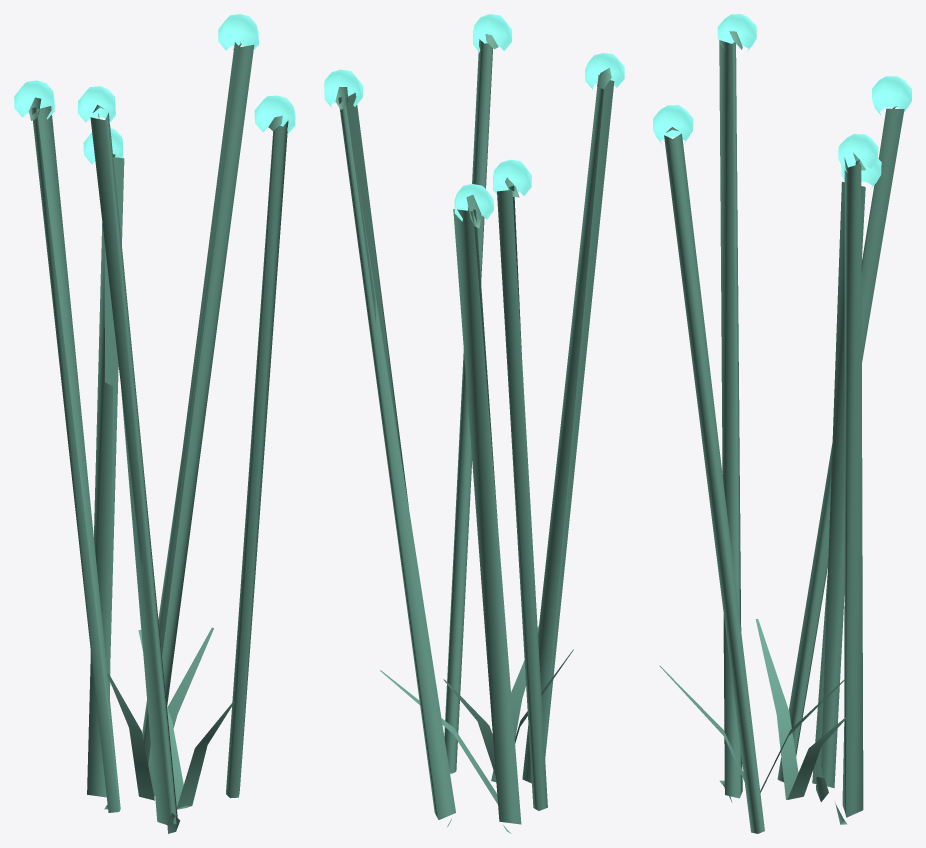
The model's file is SM_GlowReed.glb.
3 views of the same model, side by side, from view 1: azimuth 30°, elevation 25°; view 2: azimuth 150°, elevation 25°; view 3: azimuth 270°, elevation 25° (orthographic).
Parts seen in each view (by area): view 1: SM_GlowReed; view 2: SM_GlowReed; view 3: SM_GlowReed.
Part boxes in pixels (x1,y1,x2,y2): SM_GlowReed: [14, 14, 295, 833]; SM_GlowReed: [324, 14, 624, 833]; SM_GlowReed: [653, 14, 911, 833].
Size of the model in its own units: 0.4386 by 1.36 by 0.42.
